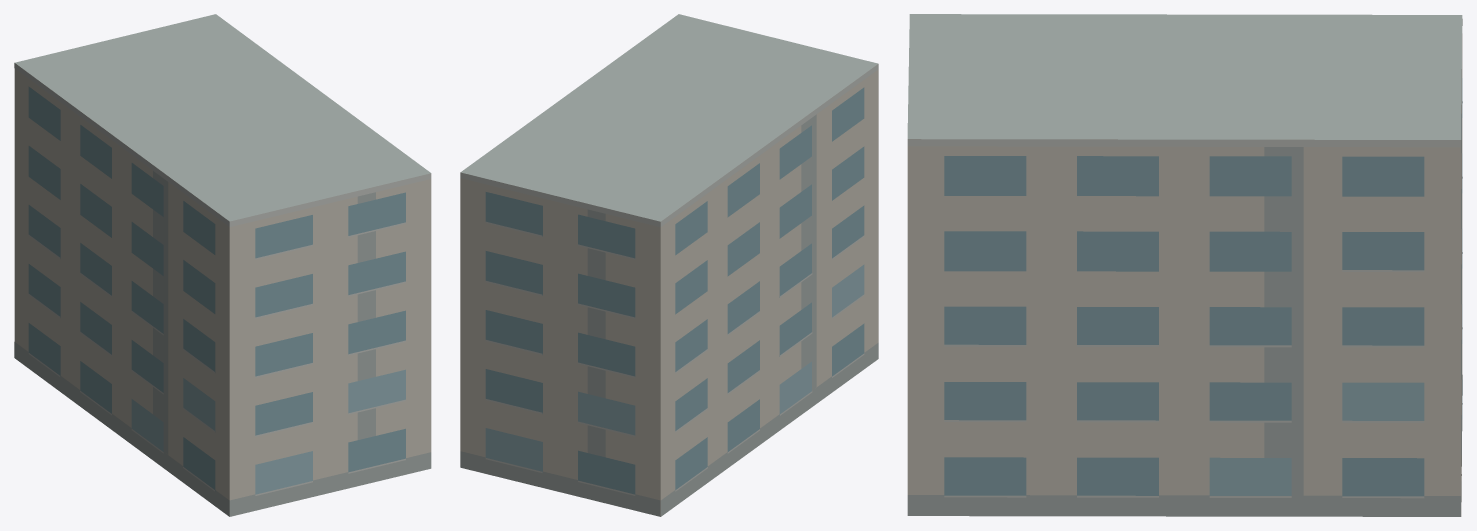
The model's file is survey-upis-32630816.glb.
3 views of the same model, side by side, from view 1: azimuth 30°, elevation 25°; view 2: azimuth 150°, elevation 25°; view 3: azimuth 270°, elevation 25° (orthographic). The views are drawn at different scales.
Visible parts, largest first — view 1: survey-upis-32630816.tmp; view 2: survey-upis-32630816.tmp; view 3: survey-upis-32630816.tmp.
Part boxes in pixels (box(x1,y1,x2,y2)): survey-upis-32630816.tmp: box(14, 14, 431, 516); survey-upis-32630816.tmp: box(460, 14, 878, 516); survey-upis-32630816.tmp: box(907, 14, 1462, 516).
Bounding box in the file's own units: 9.13 × 12.7 × 16.96.
